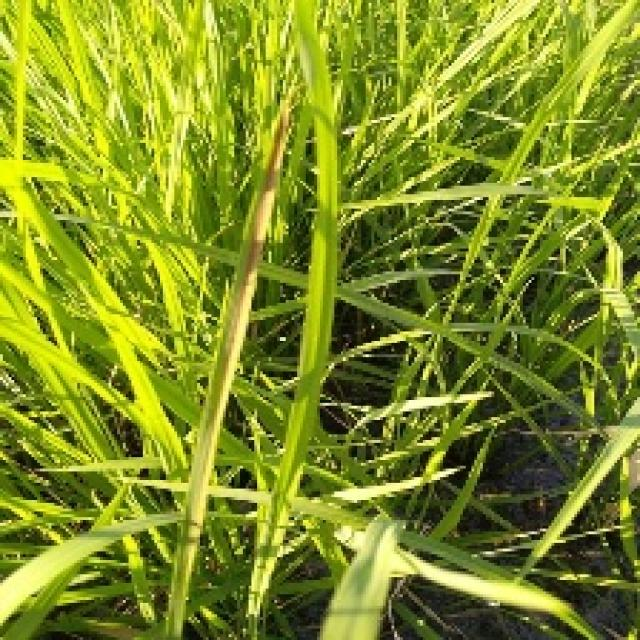Unhealthy: (224, 110, 288, 365)
